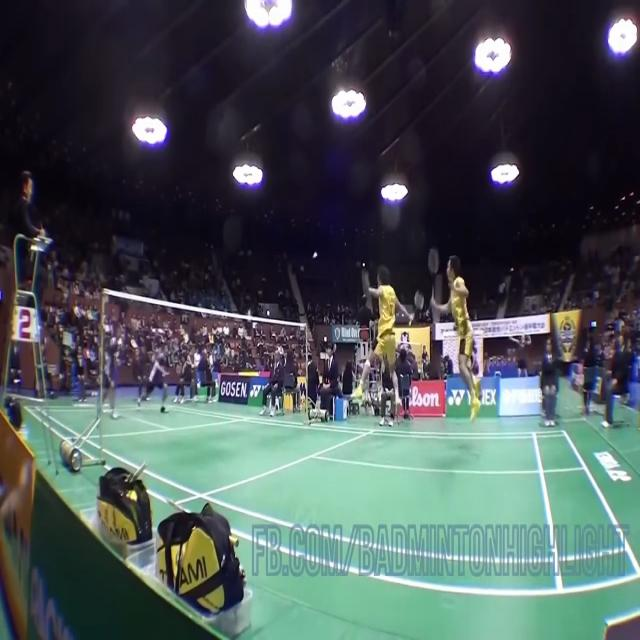shuttlecock: (312, 251, 318, 259)
